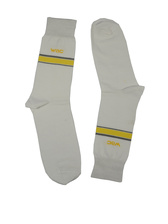sock: (24, 16, 83, 187), (89, 18, 145, 185)
